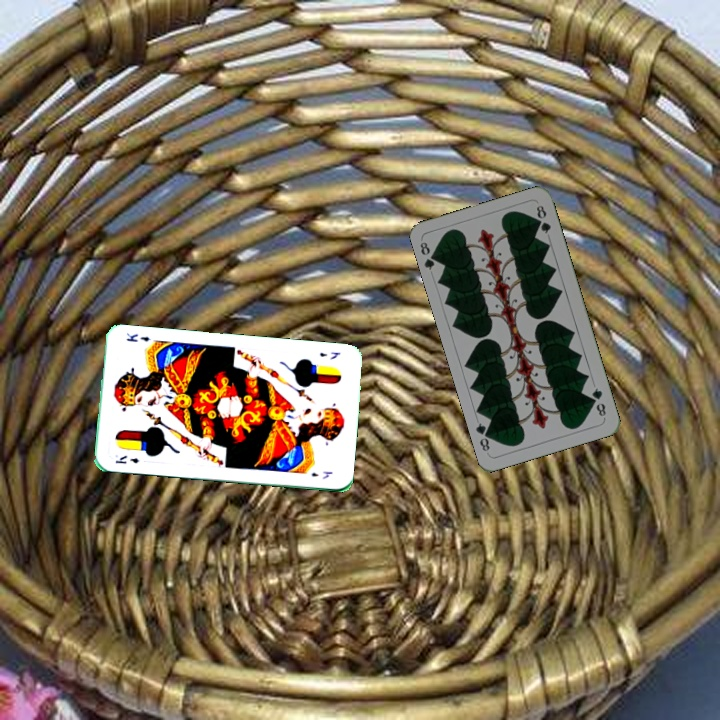EK: (112, 451, 141, 466), (315, 348, 343, 362)
G8: (416, 238, 441, 273), (588, 384, 609, 419)
